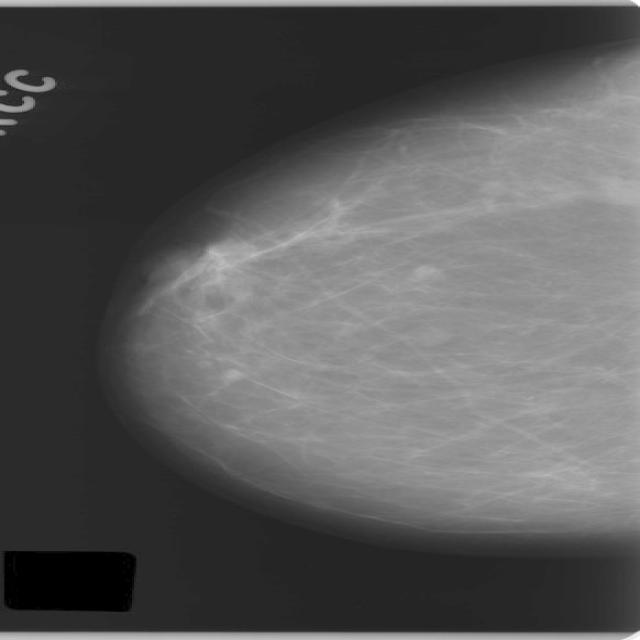tumour: (189, 237, 257, 268)
